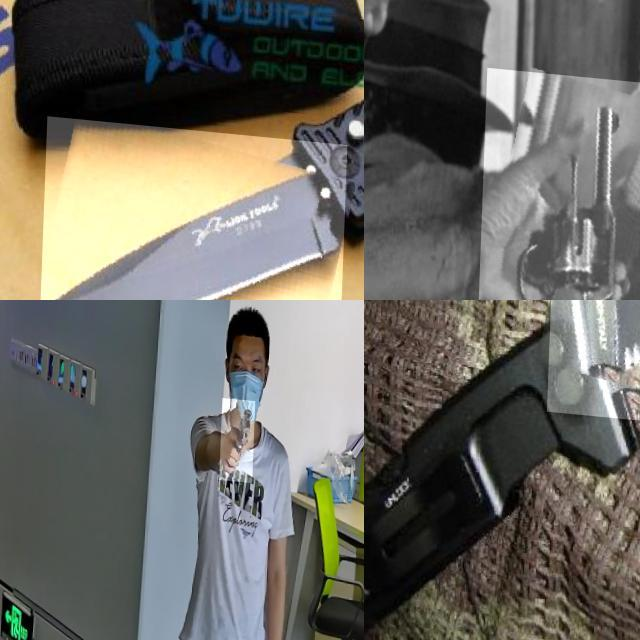-: (43, 114, 350, 300)
gun-knife-thesis - v11 Yolov5 augmented: (479, 61, 640, 300), (222, 392, 258, 476)
